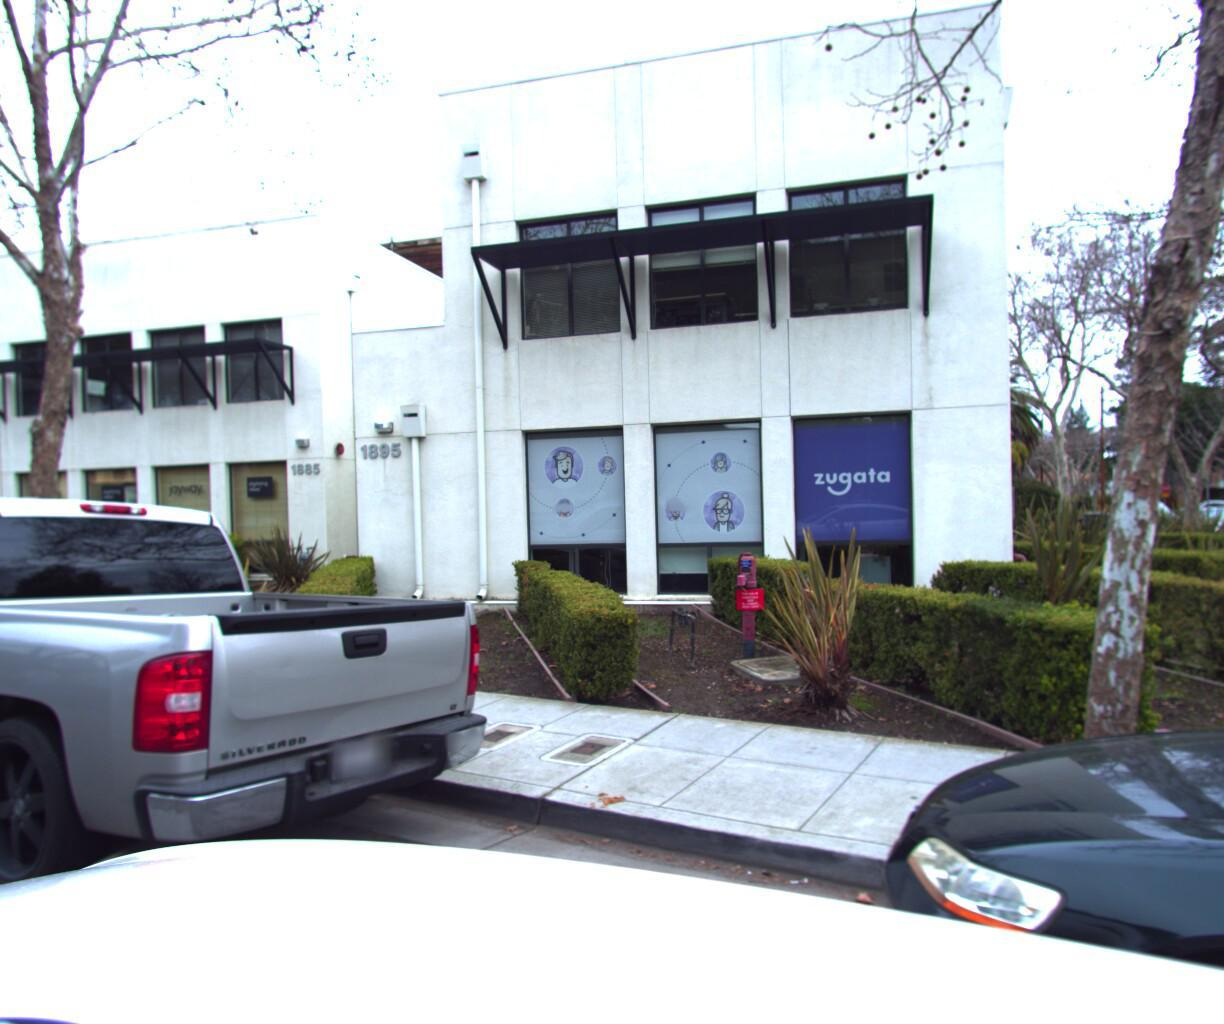car: (0, 455, 533, 1017)
